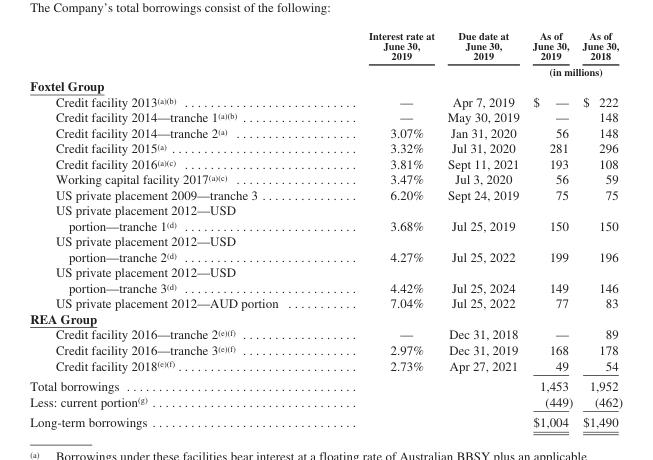table: (29, 29, 621, 429)
table column: (29, 29, 322, 429), (322, 29, 440, 429), (440, 29, 525, 429), (525, 29, 576, 429), (576, 29, 621, 429)
table column header: (29, 29, 621, 77)
table projected row header: (29, 77, 621, 93), (29, 310, 621, 326)
table row: (29, 29, 621, 63), (29, 202, 621, 233), (29, 233, 621, 264), (29, 264, 621, 295), (29, 357, 621, 375), (29, 375, 621, 393), (29, 393, 621, 411), (29, 411, 621, 429), (29, 77, 621, 93), (29, 93, 621, 109), (29, 124, 621, 140), (29, 155, 621, 171), (29, 186, 621, 202), (29, 310, 621, 326), (29, 341, 621, 357), (29, 109, 621, 124), (29, 140, 621, 155), (29, 171, 621, 186), (29, 295, 621, 310), (29, 326, 621, 341), (29, 63, 621, 77)
table spanning cell: (322, 29, 440, 77), (440, 29, 525, 77), (525, 63, 621, 77)
